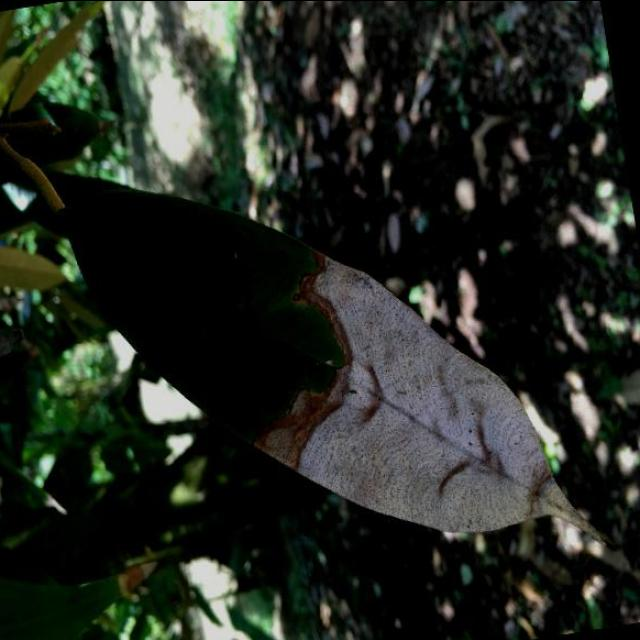Leaf Blight: (50, 111, 620, 624)
